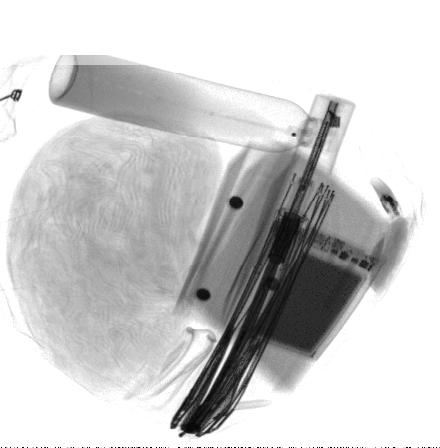Powerbank: (243, 222, 386, 360)
Sprayer: (48, 47, 337, 154)
